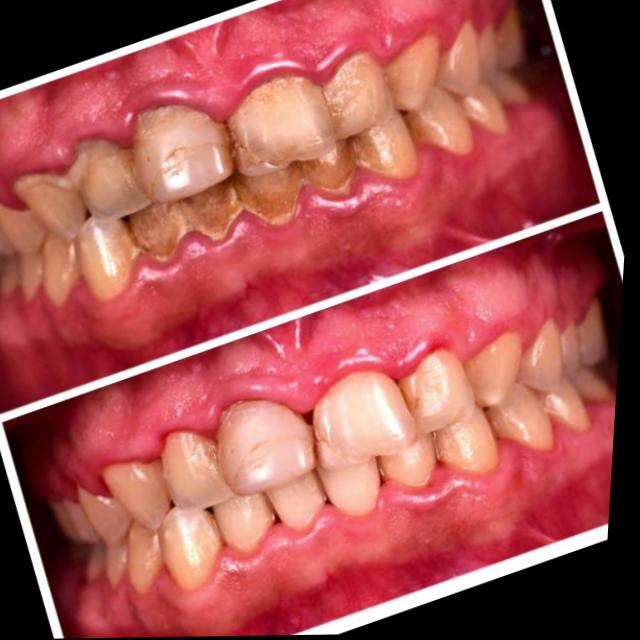gingivitis: (18, 239, 616, 638), (27, 241, 601, 499), (0, 132, 558, 384), (0, 0, 464, 174)
